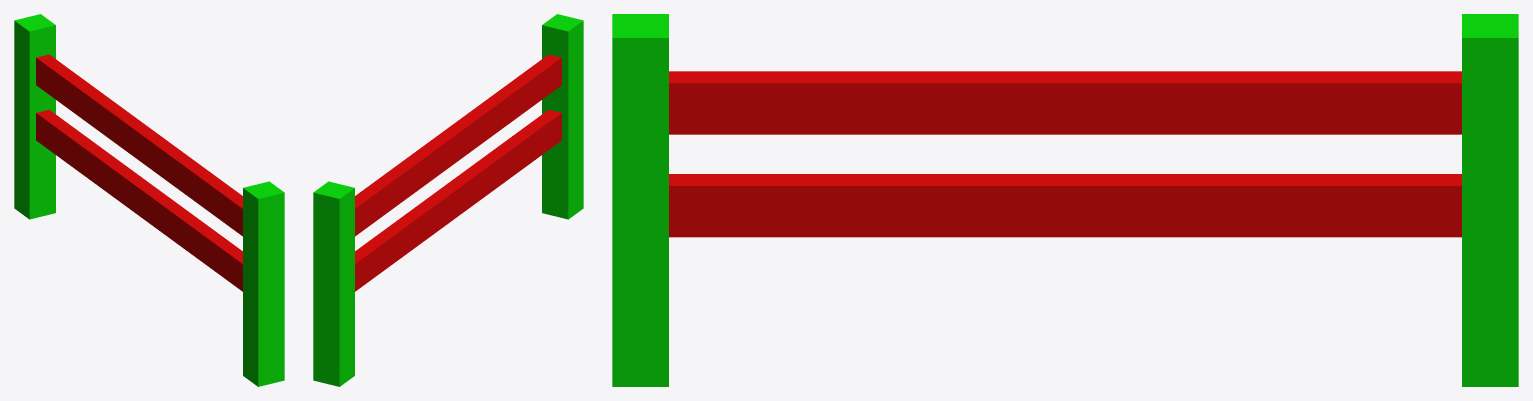
File: sm_Railing.fbx
The picture shows the model from 3 angles, left to right: view 1: azimuth 30°, elevation 25°; view 2: azimuth 150°, elevation 25°; view 3: azimuth 270°, elevation 25°; orthographic projection. The views are drawn at different scales.
Parts seen in each view (by area): view 1: polySurface39; view 2: polySurface39; view 3: polySurface39.
Part boxes in pixels (<box>): polySurface39: <box>14,14,284,386</box>; polySurface39: <box>313,14,583,386</box>; polySurface39: <box>612,14,1518,386</box>.
Size of the model in its own units: 0.5 by 3.4 by 8.
